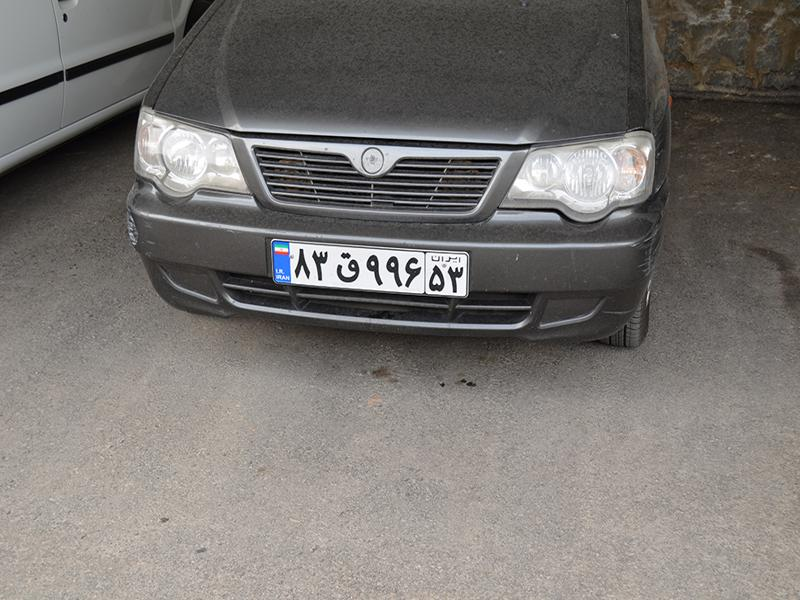Plate: (275, 239, 467, 298)
